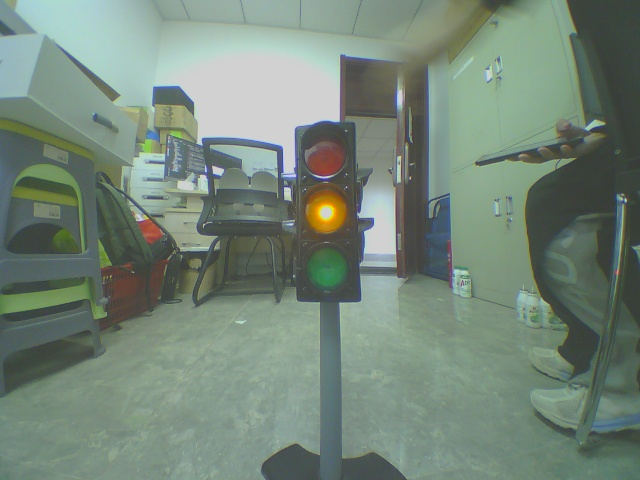Yellow: (257, 94, 374, 301)
